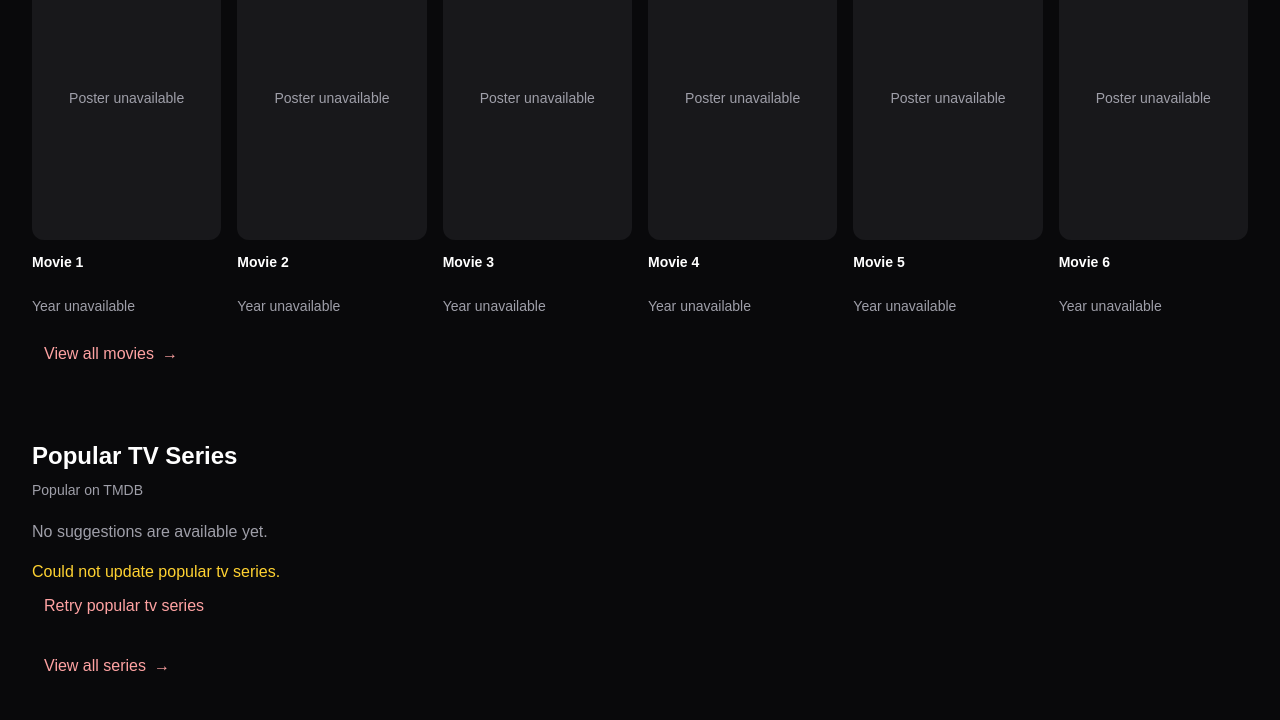
Test case: Home discovery › keeps movies visible when TV fails and retries only TV
This screenshot has width=1280, height=720.
(page scrolled)
Expected: the message "Could not update popular tv series." is shown, [32,563,280,580]
Click the button "Retry popular tv series" at (124,606), box [32,584,216,628]
(page scrolled)
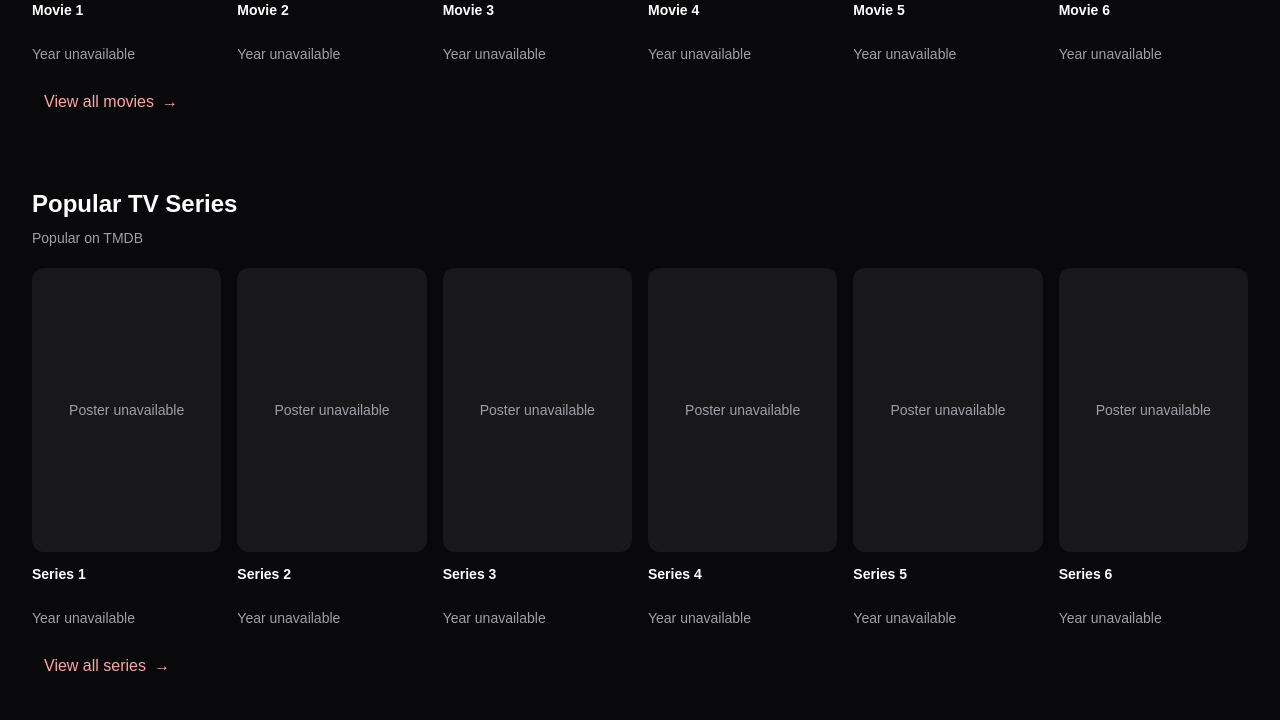
Now the link "Poster unavailable Series 1 Year unavailable" is shown, box [32,268,221,628]
Now the message "Could not update popular tv series." is gone
